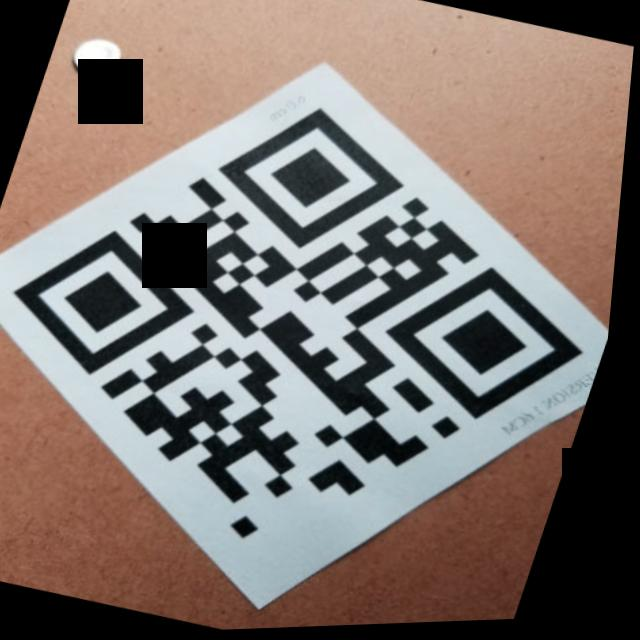QR_CODE: (0, 24, 637, 631)
